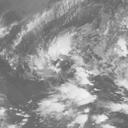cyclone: (28, 30, 81, 84)
